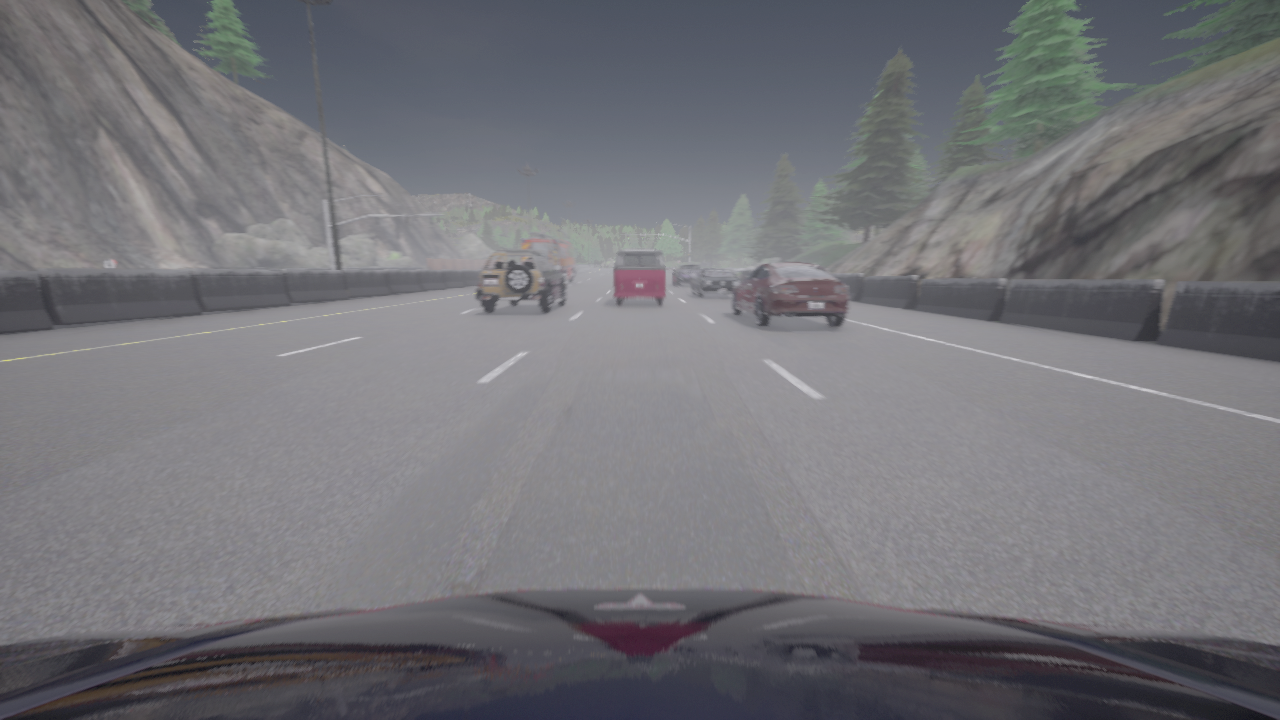cyclist: (0, 588, 1279, 719), (731, 261, 849, 327), (476, 250, 567, 313), (614, 249, 665, 305), (521, 232, 577, 282), (691, 269, 742, 297), (673, 264, 700, 286)
